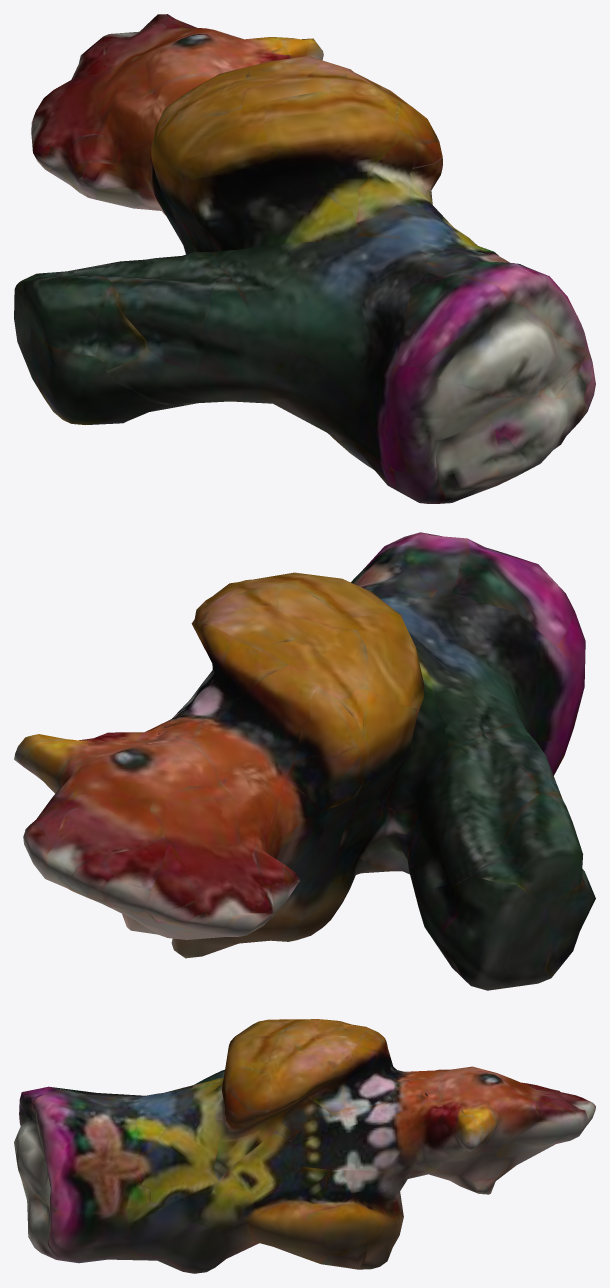
Rendered from hall.glb.
3 views of the same model, one above another, from view 1: azimuth 30°, elevation 25°; view 2: azimuth 150°, elevation 25°; view 3: azimuth 270°, elevation 25° (orthographic). The views are drawn at different scales.
Size of the model in its own units: 0.3952 by 0.2939 by 0.6817.
Materials: 1 (1 with a texture image).
